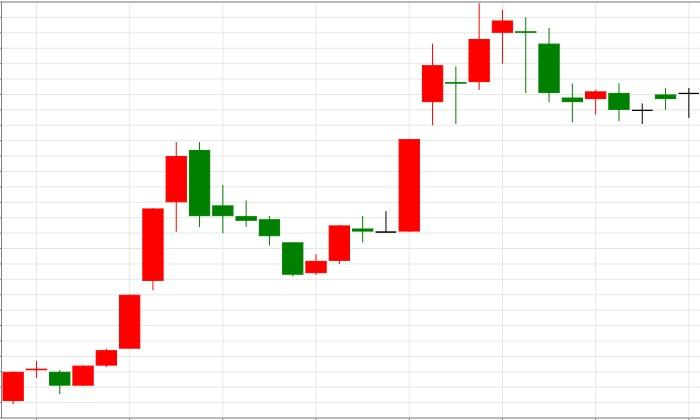bearish_engulfing_fall: (72, 140, 210, 387)
